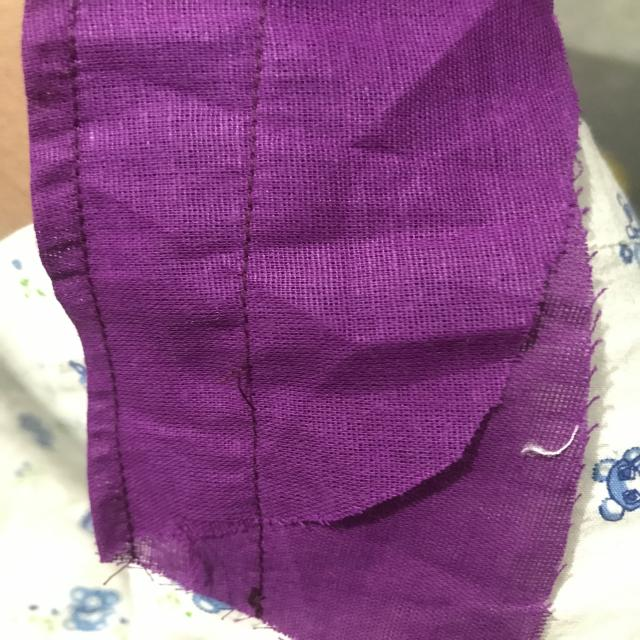good: (227, 180, 269, 264)
skip: (213, 354, 276, 424)
